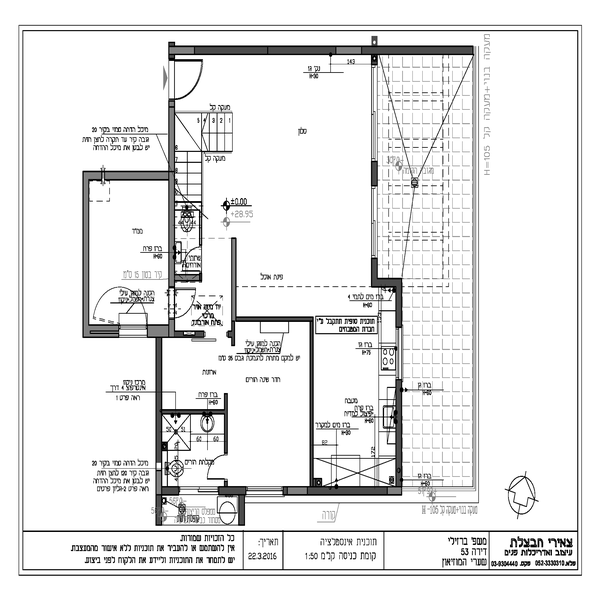door: (169, 59, 209, 103), (165, 285, 204, 317), (203, 452, 234, 480)
room: (164, 43, 383, 324), (152, 318, 317, 494), (304, 277, 405, 496), (77, 164, 181, 338)
wall: (167, 41, 477, 58), (152, 336, 166, 525), (166, 98, 177, 293), (307, 313, 319, 483), (83, 168, 94, 339), (83, 167, 170, 184), (393, 376, 406, 484), (286, 487, 406, 497), (238, 313, 316, 325), (387, 282, 407, 328), (232, 234, 239, 344), (164, 408, 223, 419), (217, 481, 248, 499), (371, 275, 405, 289), (224, 395, 232, 453), (149, 324, 177, 339), (367, 158, 379, 187)
window: (371, 60, 384, 154), (368, 193, 382, 257), (392, 329, 408, 378), (250, 486, 284, 501), (178, 487, 219, 494)
